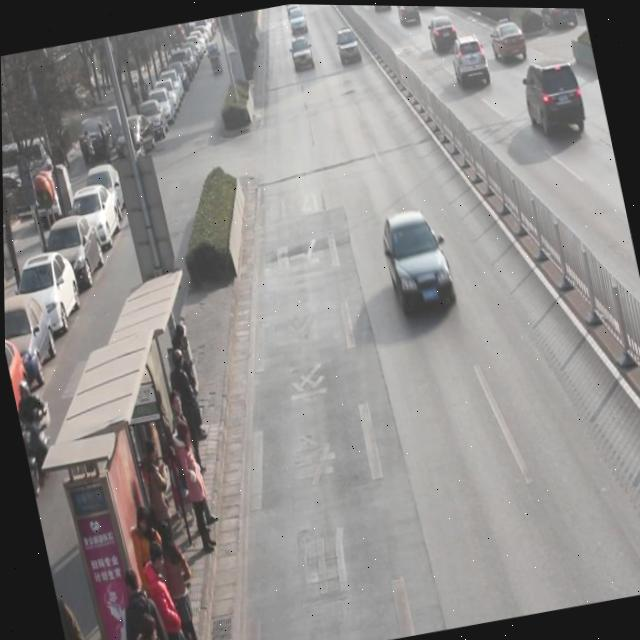car: (376, 203, 458, 319), (518, 53, 589, 139), (447, 31, 494, 93), (487, 13, 530, 64), (427, 13, 460, 54), (335, 24, 364, 68), (539, 6, 581, 34), (288, 32, 315, 75), (288, 5, 310, 37), (395, 5, 422, 31), (369, 4, 393, 15)
